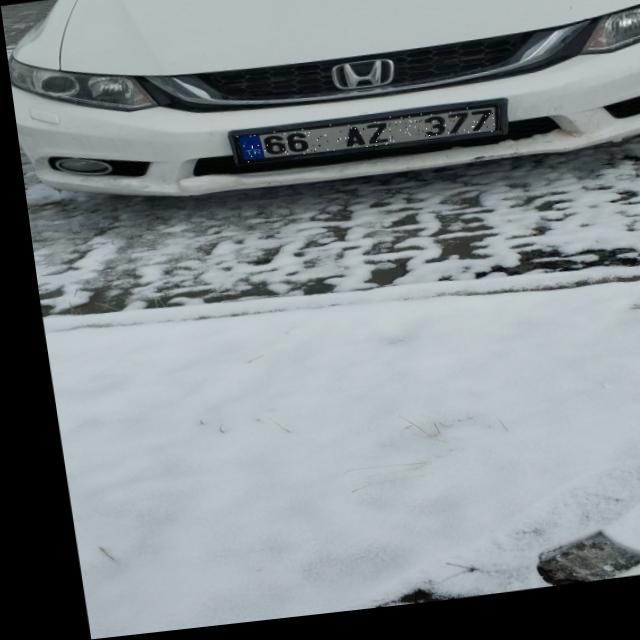license_plate: (229, 113, 496, 169)
